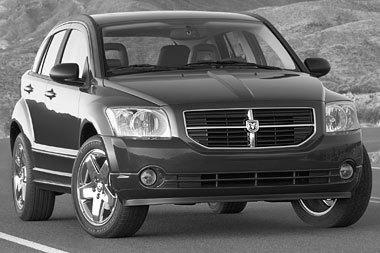car: (10, 12, 373, 242)
